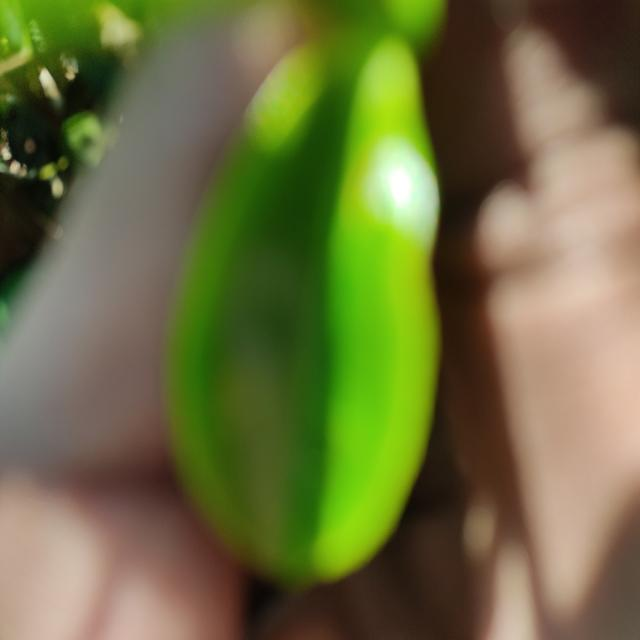Category C 4-7 days: (159, 27, 449, 589)
